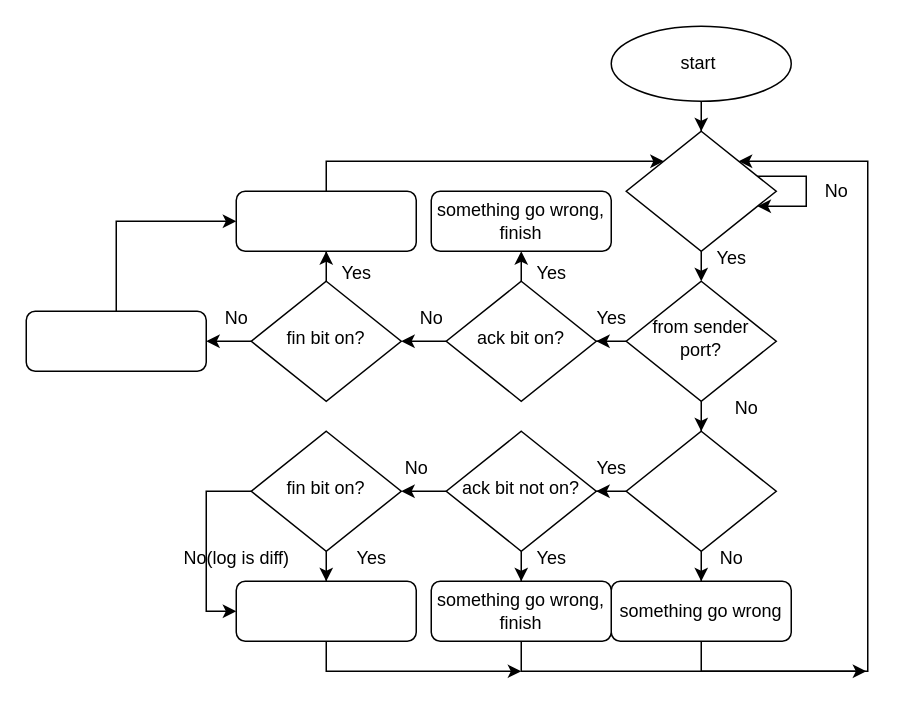
Image size: 906x710. Some labels were removed from this diagram. Here are the shapes that lost their labels. From the top down, the centre of each, then its label:
the point at 700,190: receive segment?
the point at 325,220: send to receiver
the point at 115,340: randomly drop or corrupt data
the point at 700,490: from receiver port?
the point at 325,610: send to sender
